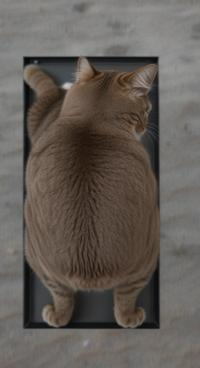cat: (23, 56, 159, 328)
